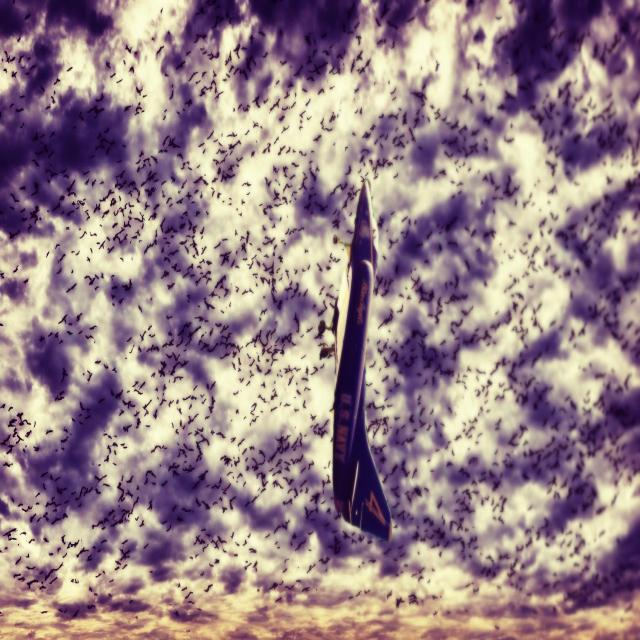airplane: (330, 178, 392, 542)
